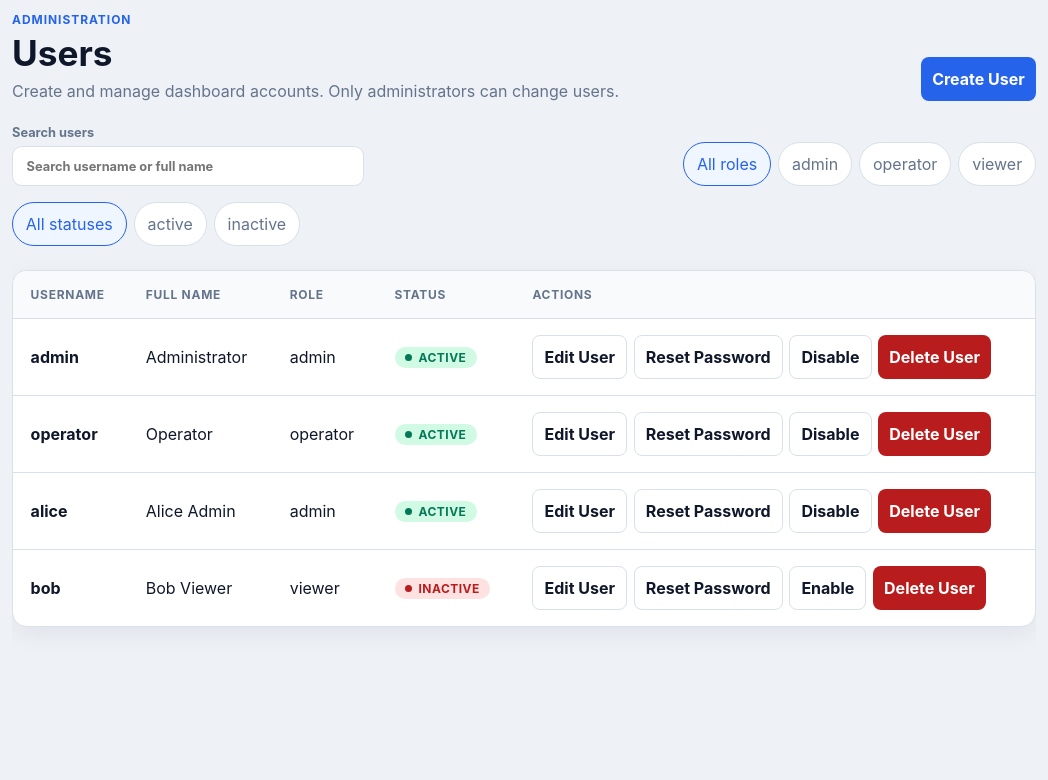
Users page › searches by username and full name
Expected: the text "alice" is shown, [13,472,128,549]
Type "Alice" into the search field labelled "Search users" at {"x": 188, "y": 166}, box [12,146,364,186]
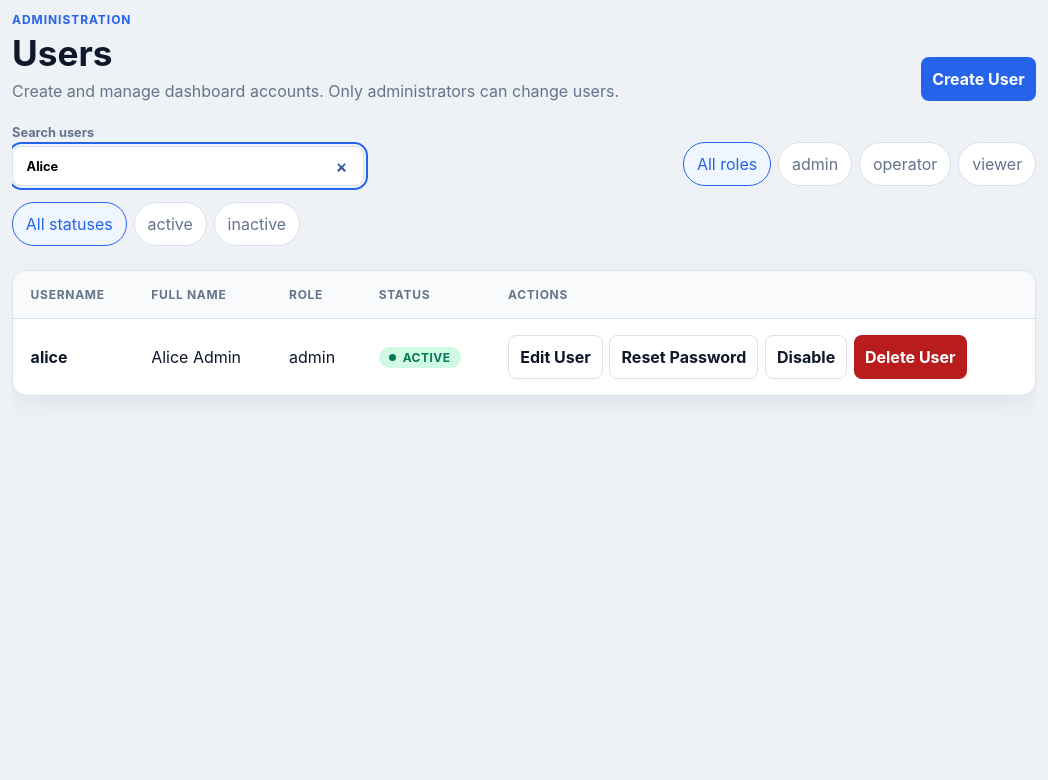
Expected: the text "alice" is shown, [13,318,134,395]
Expected: the text "bob" is gone
